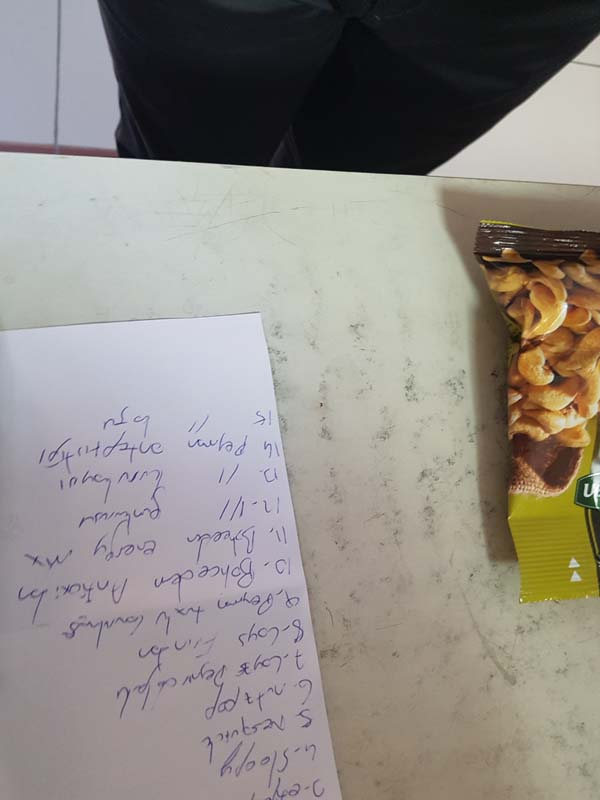kajupeyman: (471, 212, 600, 610)
